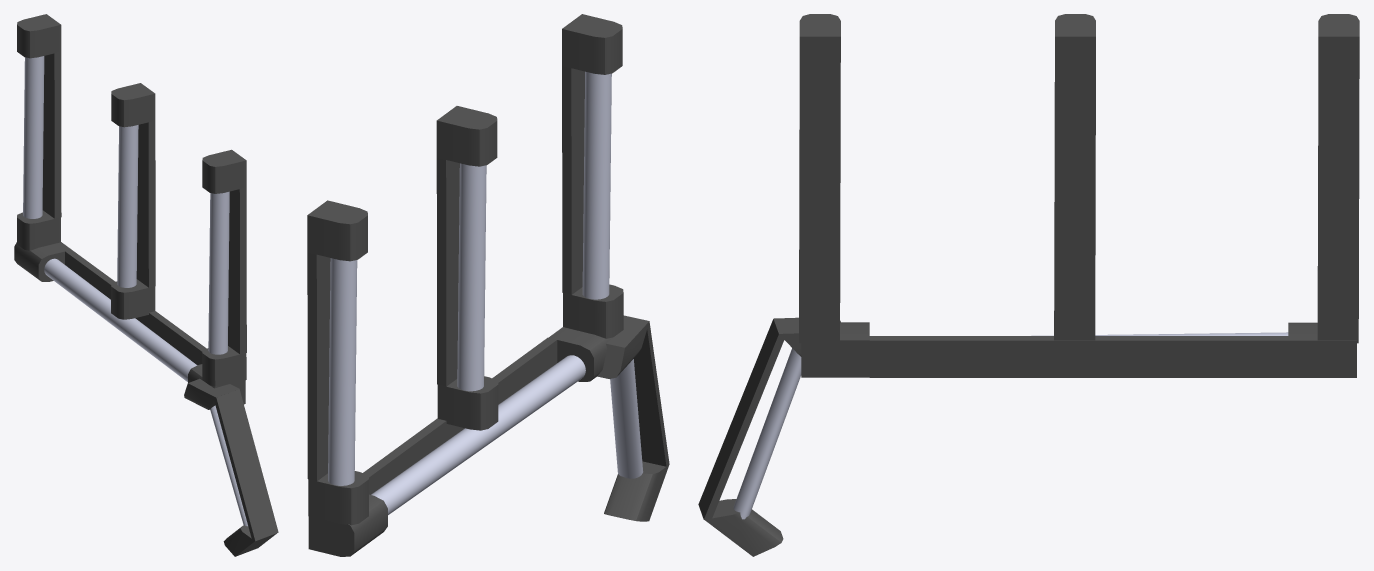
The model's file is letter.fbx.
The picture shows the model from 3 angles, left to right: view 1: azimuth 30°, elevation 25°; view 2: azimuth 150°, elevation 25°; view 3: azimuth 270°, elevation 25°; orthographic projection. The views are drawn at different scales.
Parts seen in each view (by area): view 1: letter; view 2: letter; view 3: letter.
Part boxes in pixels (box(x1,y1,x2,y2)): letter: box(14, 14, 278, 556); letter: box(307, 14, 669, 556); letter: box(698, 14, 1359, 556).
Bounding box in the file's own units: 0.6133 × 4.87 × 5.55.
